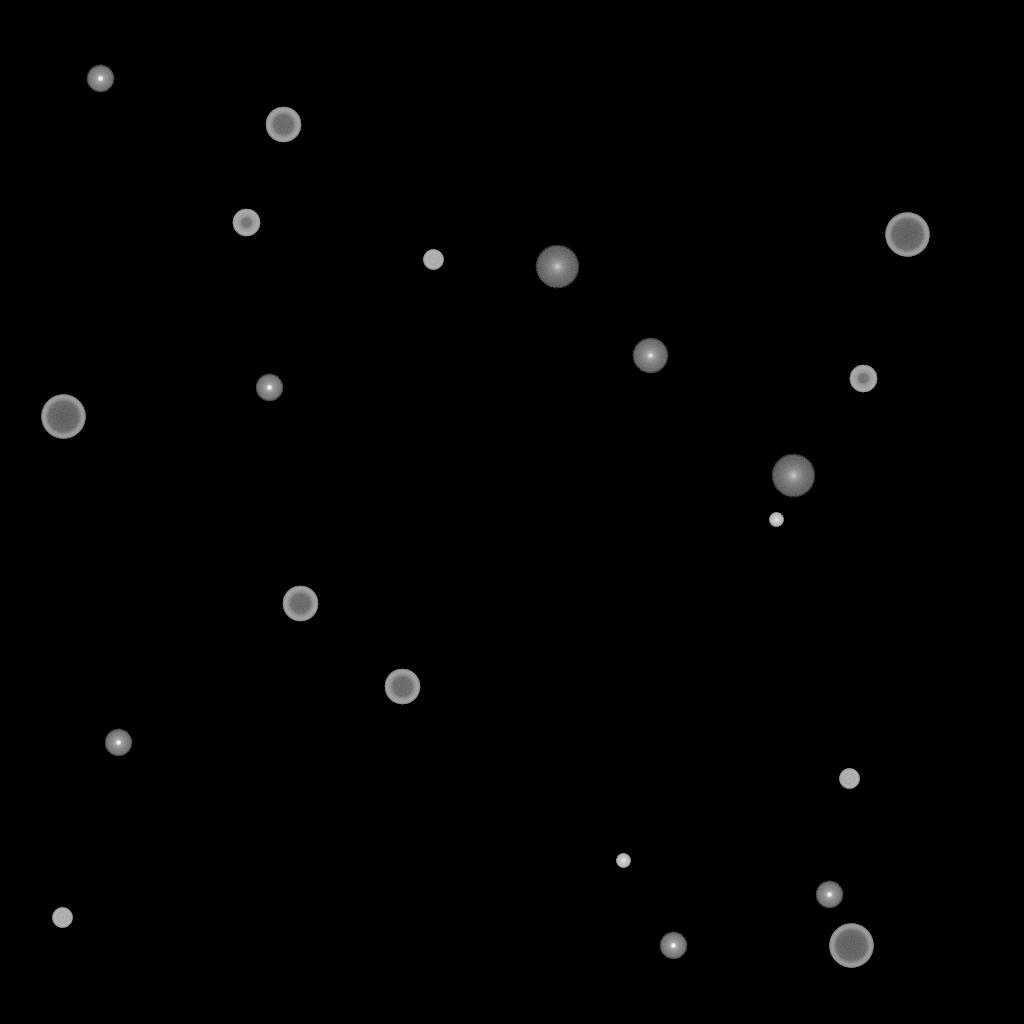depth:-10: (86, 65, 114, 93), (815, 881, 843, 909), (104, 729, 132, 757), (255, 374, 283, 402), (659, 932, 687, 960)
depth:-30: (616, 854, 630, 868), (769, 513, 783, 527)
depth:-40: (52, 908, 72, 928), (839, 769, 859, 789), (423, 250, 443, 270)
depth:-50: (232, 209, 260, 237), (849, 365, 877, 393)
depth:-60: (384, 669, 420, 705), (265, 107, 301, 143), (282, 586, 318, 622)
depth:-70: (829, 924, 873, 968), (885, 213, 929, 257), (41, 395, 85, 439)
depth:0: (632, 338, 668, 374)
depth:10: (535, 245, 579, 289), (771, 454, 815, 498)
